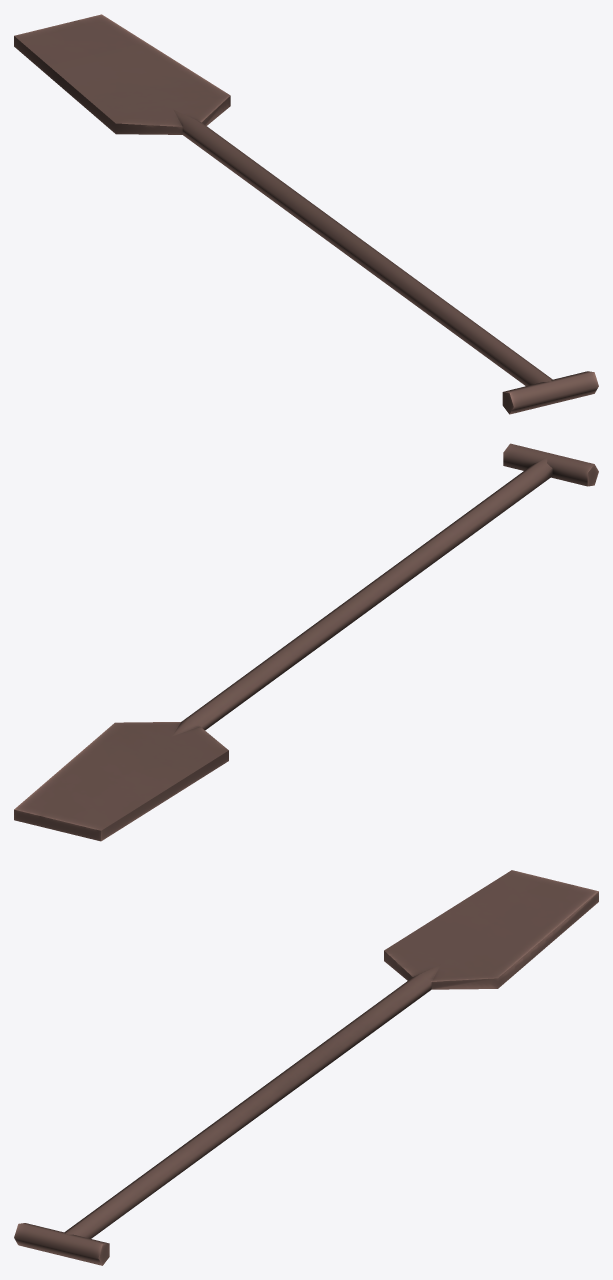
File: Props_5.fbx
3 renders of one model, top to bottom at view 1: azimuth 30°, elevation 25°; view 2: azimuth 150°, elevation 25°; view 3: azimuth 330°, elevation 25°, orthographic.
Parts seen in each view (by area): view 1: Props_5; view 2: Props_5; view 3: Props_5.
Part boxes in pixels (bbox=[...]): Props_5: bbox=[14, 14, 598, 414]; Props_5: bbox=[14, 443, 598, 841]; Props_5: bbox=[14, 870, 598, 1265].
Bounding box in the file's own units: 10.83 × 2 × 81.78.
